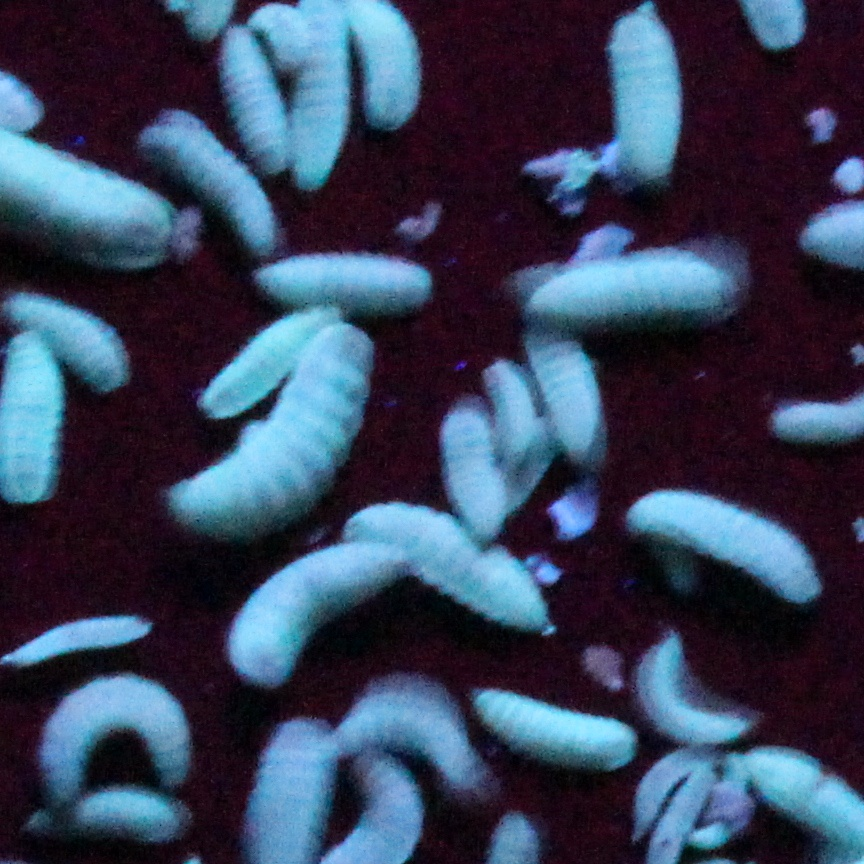larve: (161, 324, 360, 533), (329, 496, 563, 635), (221, 551, 402, 677), (640, 472, 807, 600), (30, 668, 183, 790), (188, 308, 344, 426), (326, 681, 476, 784), (476, 677, 635, 763), (524, 244, 741, 307), (633, 639, 756, 749), (434, 402, 530, 535), (603, 11, 677, 173), (258, 240, 434, 308), (520, 324, 605, 463), (10, 291, 129, 387), (176, 121, 270, 241), (4, 317, 54, 507), (492, 356, 547, 484), (76, 782, 182, 840), (623, 743, 665, 836), (232, 29, 266, 121), (269, 2, 306, 72)
